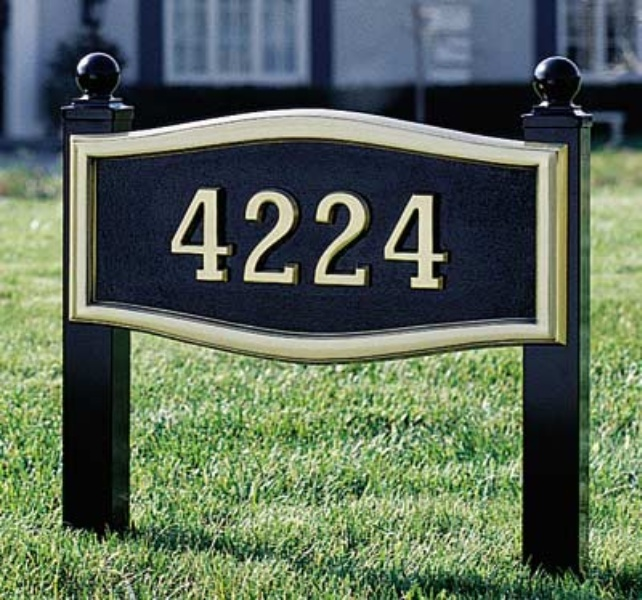text: (177, 187, 192, 289), (193, 187, 208, 289), (209, 187, 224, 289), (225, 187, 240, 289), (241, 187, 256, 289), (257, 187, 272, 289), (273, 187, 288, 289), (289, 187, 304, 289), (305, 187, 320, 289), (321, 187, 336, 289), (337, 187, 352, 289), (353, 187, 368, 289), (369, 187, 384, 289), (385, 187, 400, 289), (401, 187, 416, 289), (417, 187, 432, 289), (433, 187, 448, 289), (172, 187, 176, 289), (449, 187, 450, 289)
